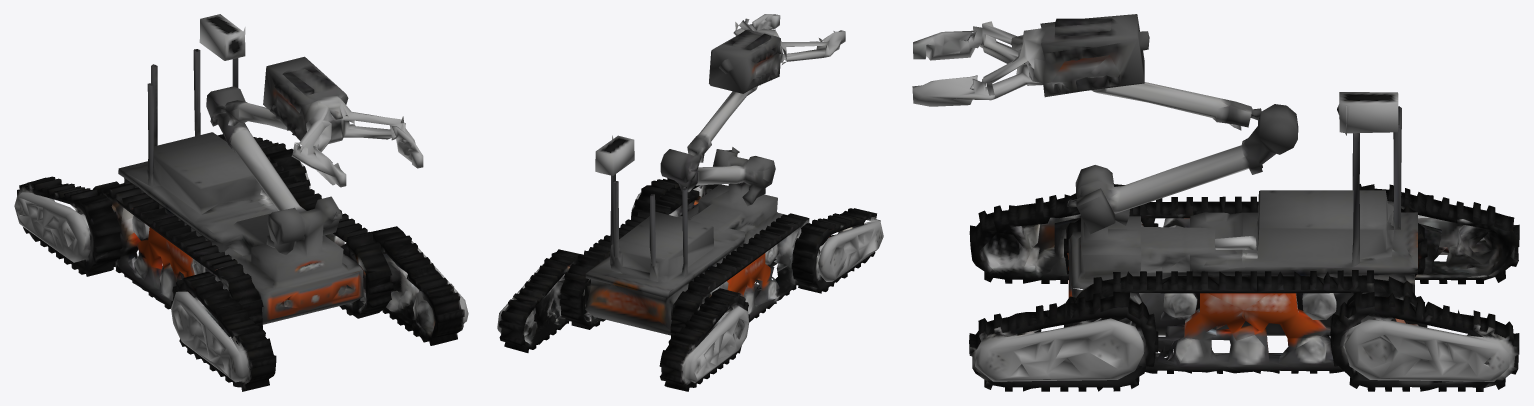
File: robot_jinbom.glb
3 views of the same model, side by side, from view 1: azimuth 30°, elevation 25°; view 2: azimuth 150°, elevation 25°; view 3: azimuth 270°, elevation 25° (orthographic). The views are drawn at different scales.
Parts seen in each view (by area): view 1: tripo_node_f5128917; view 2: tripo_node_f5128917; view 3: tripo_node_f5128917.
Boxes of the visible parts, left/top/right/bottom form: tripo_node_f5128917: left=14, top=14, right=468, bottom=391; tripo_node_f5128917: left=497, top=14, right=883, bottom=391; tripo_node_f5128917: left=912, top=14, right=1519, bottom=391.
Bounding box in the file's own units: 51.97 × 55.58 × 99.98.
1 material, 1 textured.
